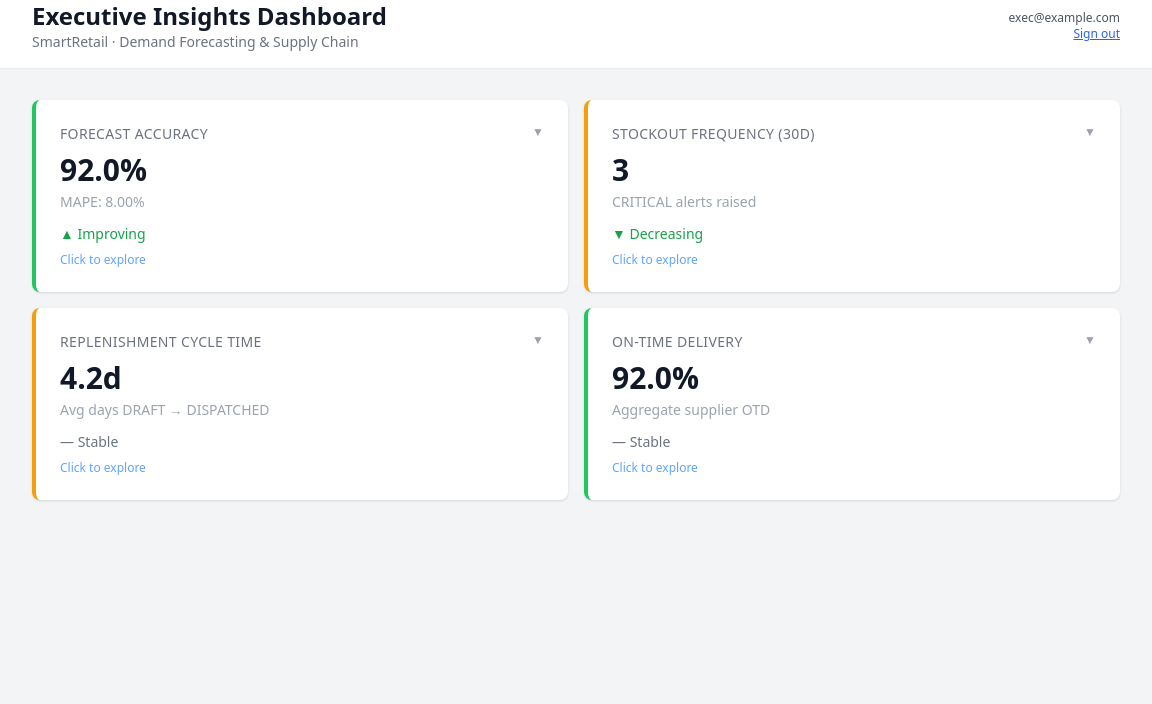
Test: ExecutiveDashboard › expands OTD detail panel when OTD card is clicked
Step 1. Click the button "On-Time Delivery" → click(677, 342), box [584,308,1120,500]
(page scrolled)
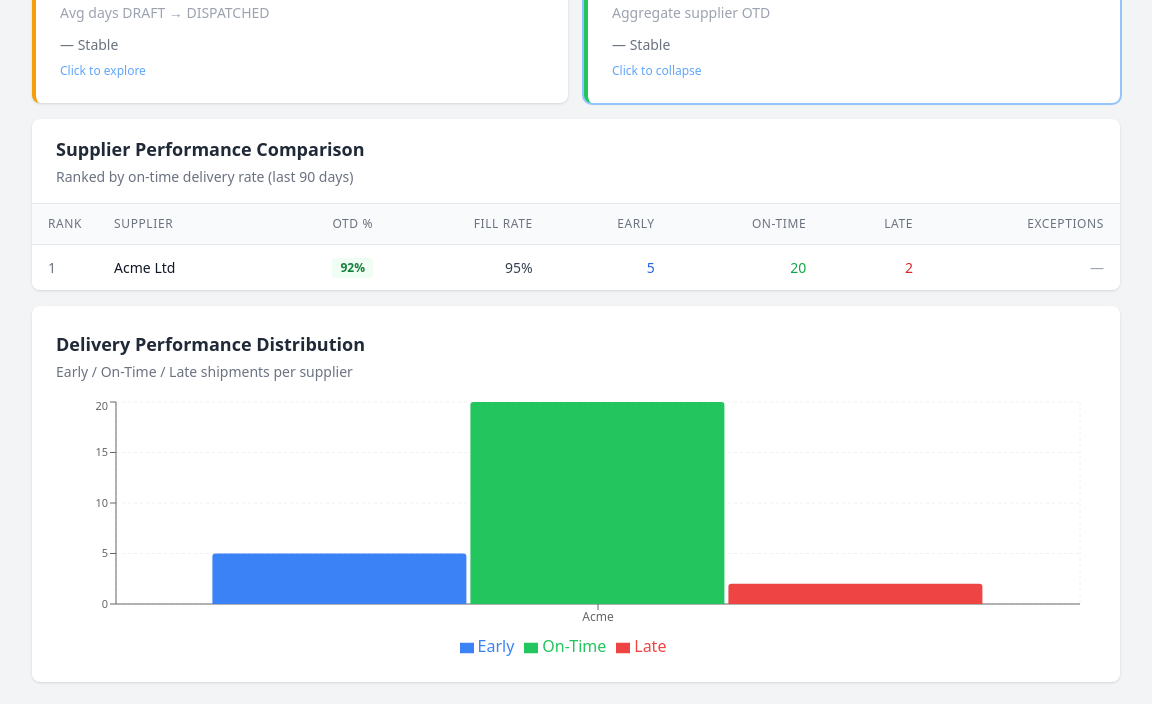
Expected: the heading "Delivery Performance Distribution" is shown, [56,332,365,356]
